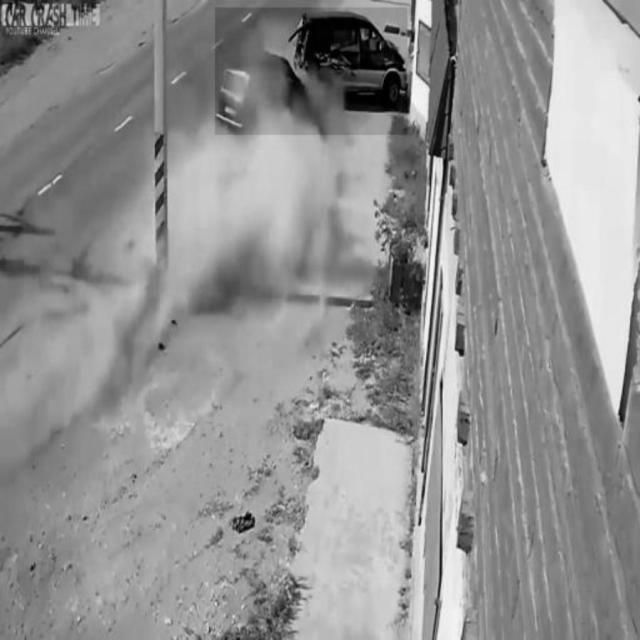accident: (216, 7, 408, 135)
